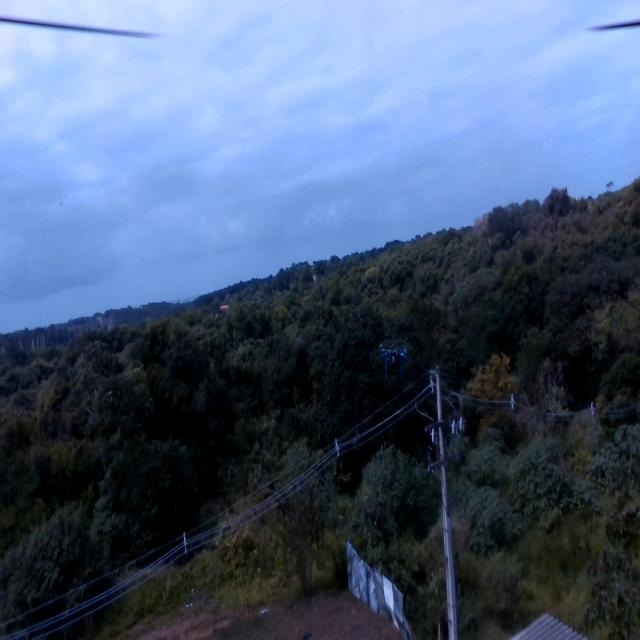-uav-: (371, 324, 415, 392)
